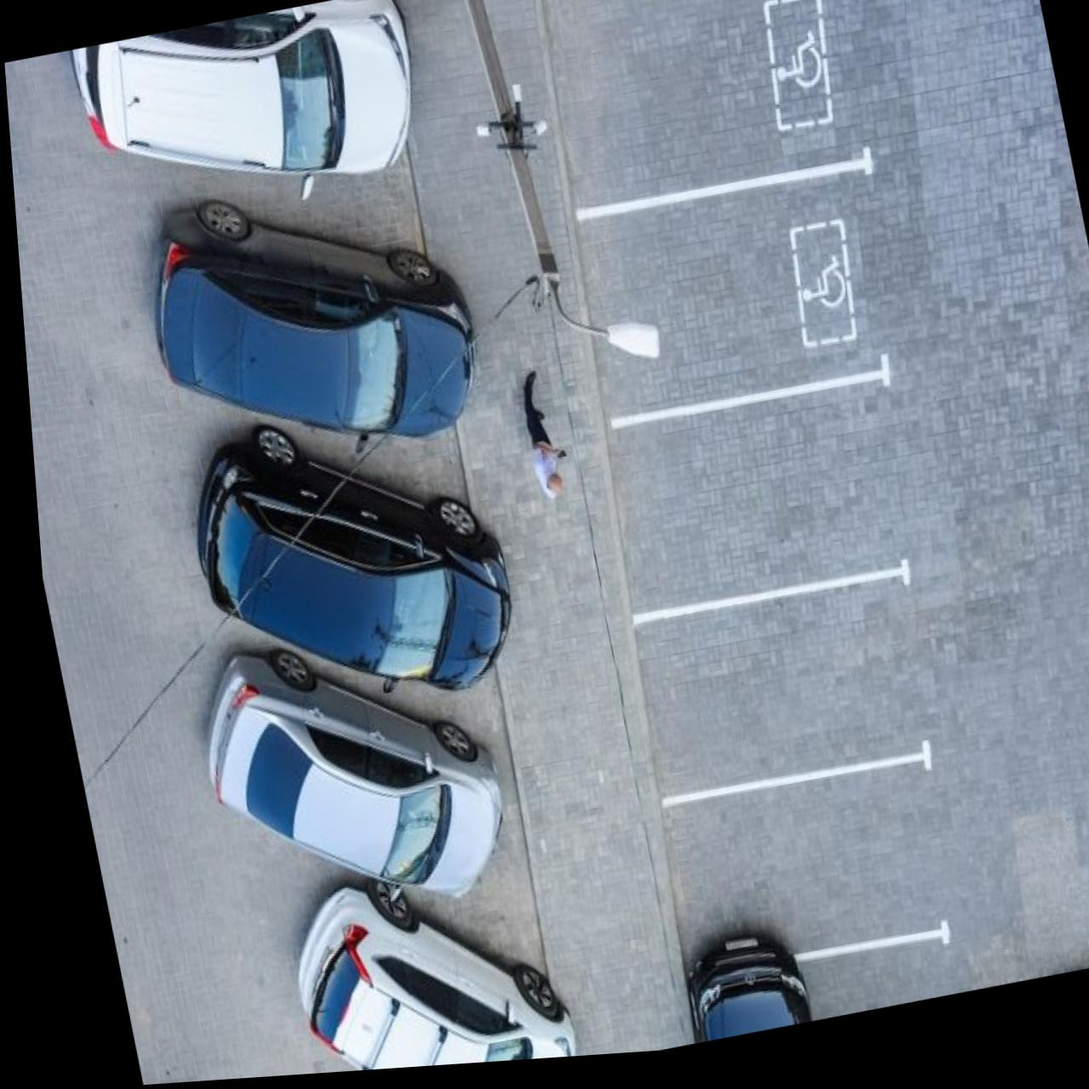cars: (655, 749, 968, 982)
empty: (560, 163, 905, 423), (588, 379, 923, 620), (527, 0, 889, 212), (623, 568, 942, 801)
